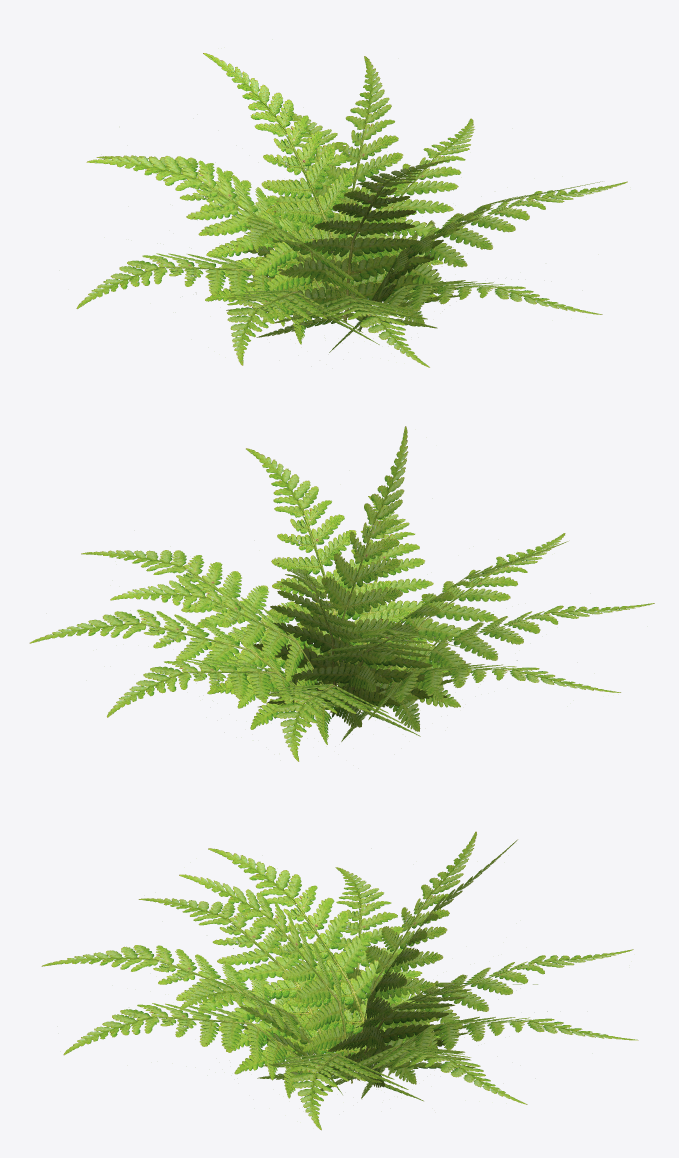
File: fern1.FBX
3 renders of one model, top to bottom at view 1: azimuth 30°, elevation 25°; view 2: azimuth 150°, elevation 25°; view 3: azimuth 270°, elevation 25°, orthographic.
Parts seen in each view (by area): view 1: fern1; view 2: fern1; view 3: fern1.
Part boxes in pixels (left/top/right/bottom): fern1: left=76, top=53, right=627, bottom=367; fern1: left=29, top=426, right=654, bottom=761; fern1: left=41, top=831, right=638, bottom=1130.
Bounding box in the file's own units: 4.93 × 1.86 × 4.88.
